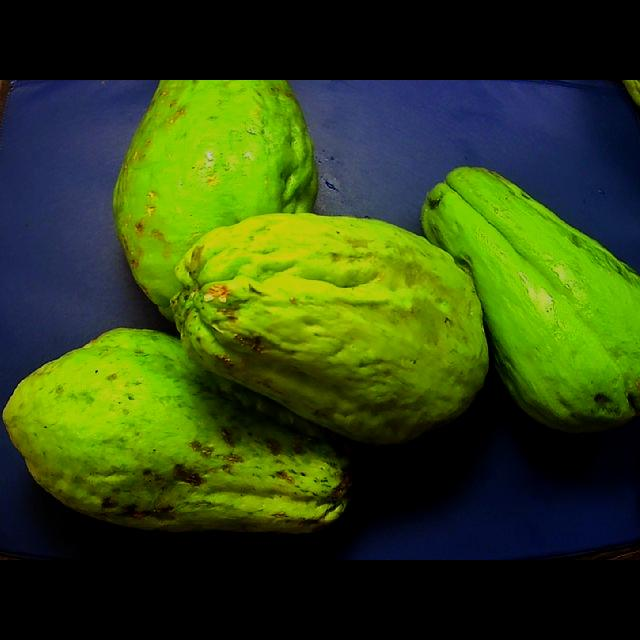chayote: (171, 213, 488, 445), (2, 329, 359, 532), (421, 168, 639, 433), (113, 80, 317, 320)
